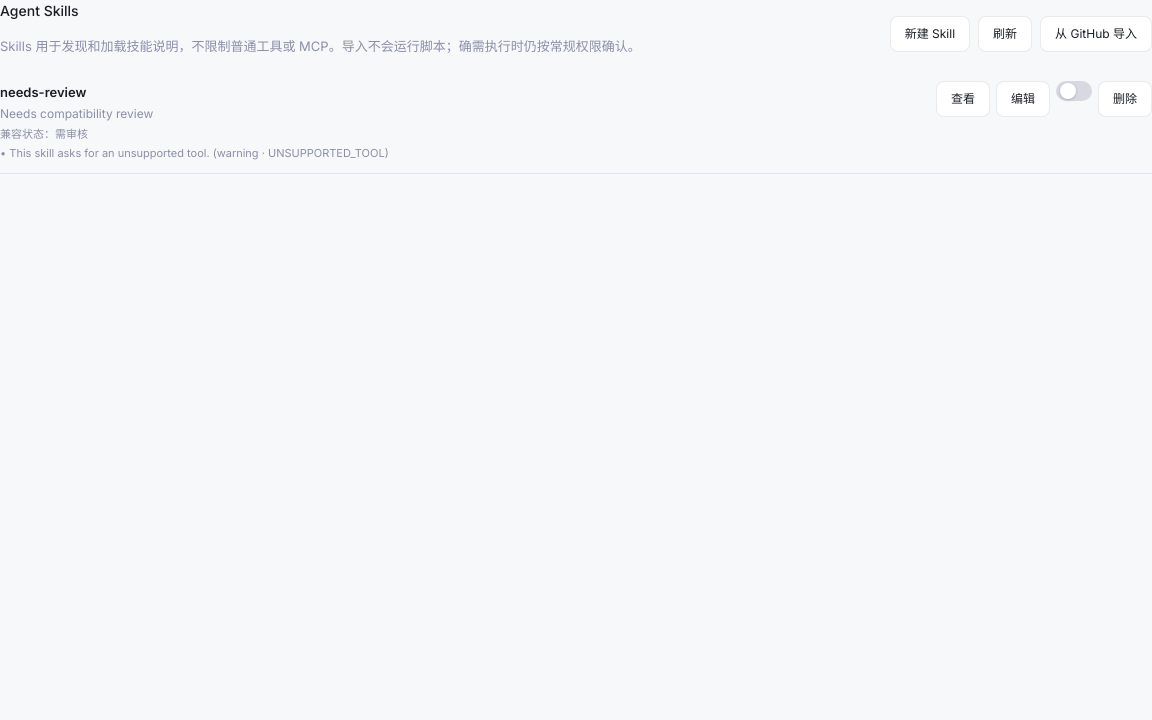
Test: SkillsManager › blocks confirmation for review-required skills and explains their resource checks
Expected: the text "Needs compatibility review" is shown, [0,106,153,121]
Click the button "查看": (963, 98) [936,80,990,116]
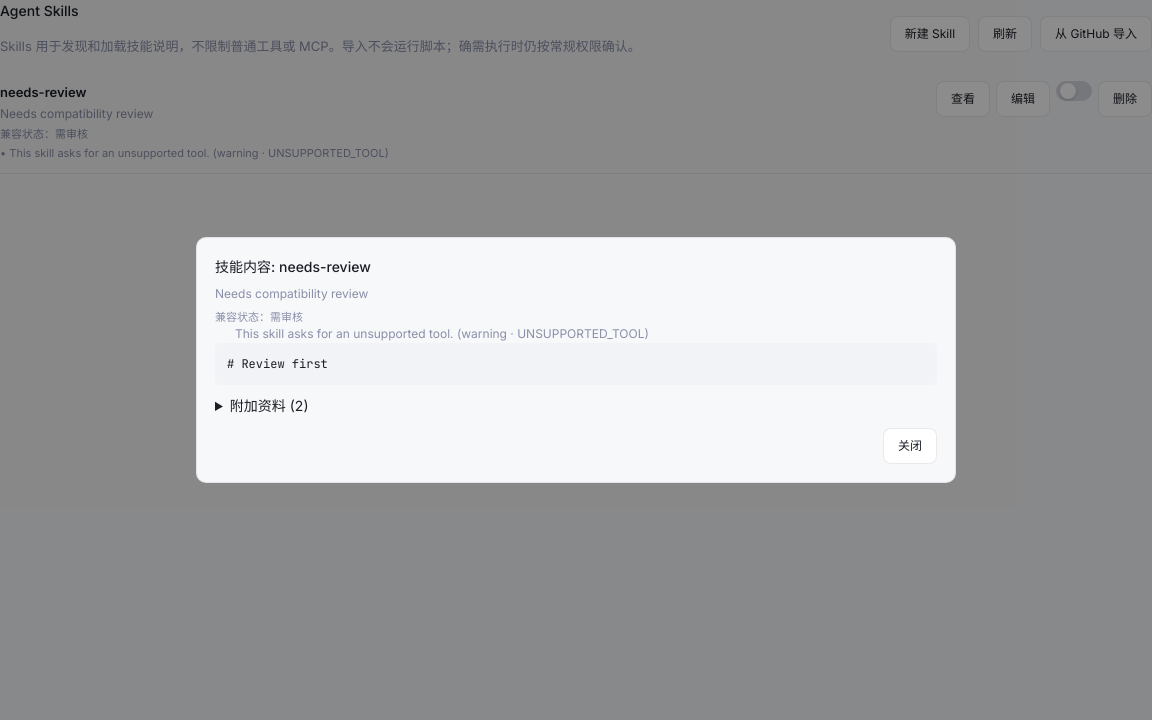
Expected: the text "This skill asks for an unsupported tool." is shown, [9,146,389,160]
Expected: the dialog is shown
Expected: the text "# Review first" is shown, [215,343,937,385]
Click the heading "附加资料 (2)": (269, 406) [230,397,308,414]
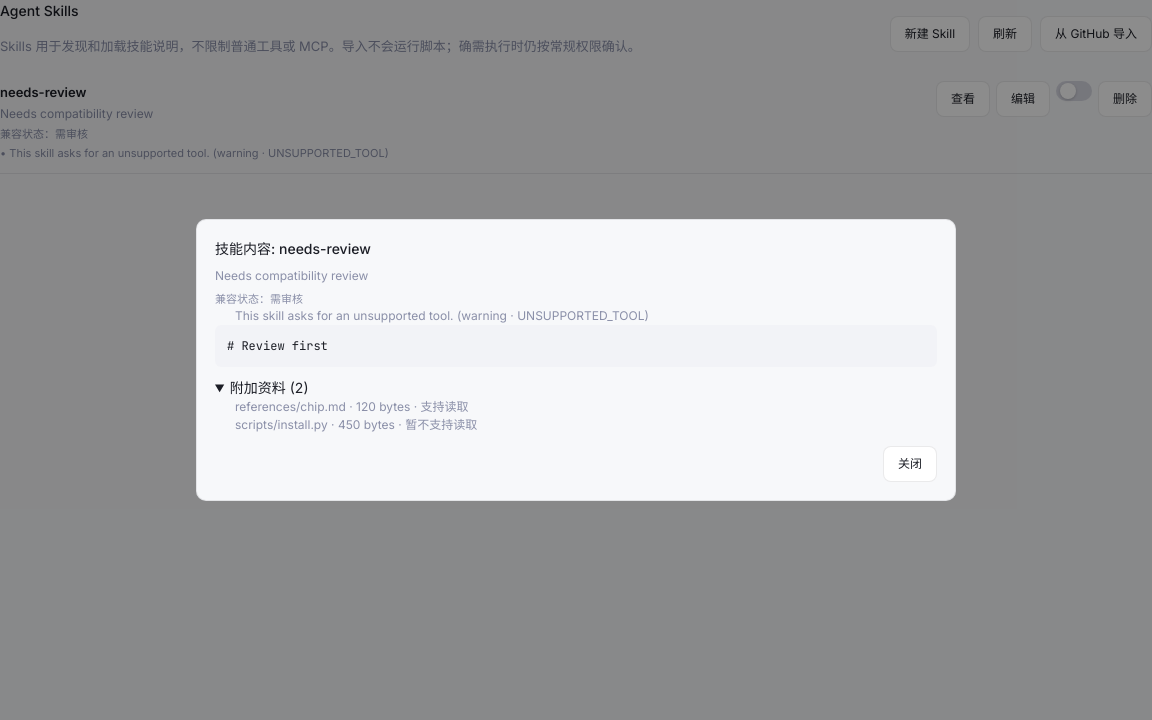
Expected: the button named "需审核，不可启用: needs-review" is disabled, [1056,80,1092,100]
Expected: the list item "references/chip.md · 120 bytes · 支持读取" is shown, [235,399,469,414]
Expected: the list item "scripts/install.py · 450 bytes · 暂不支持读取" is shown, [235,417,477,432]
